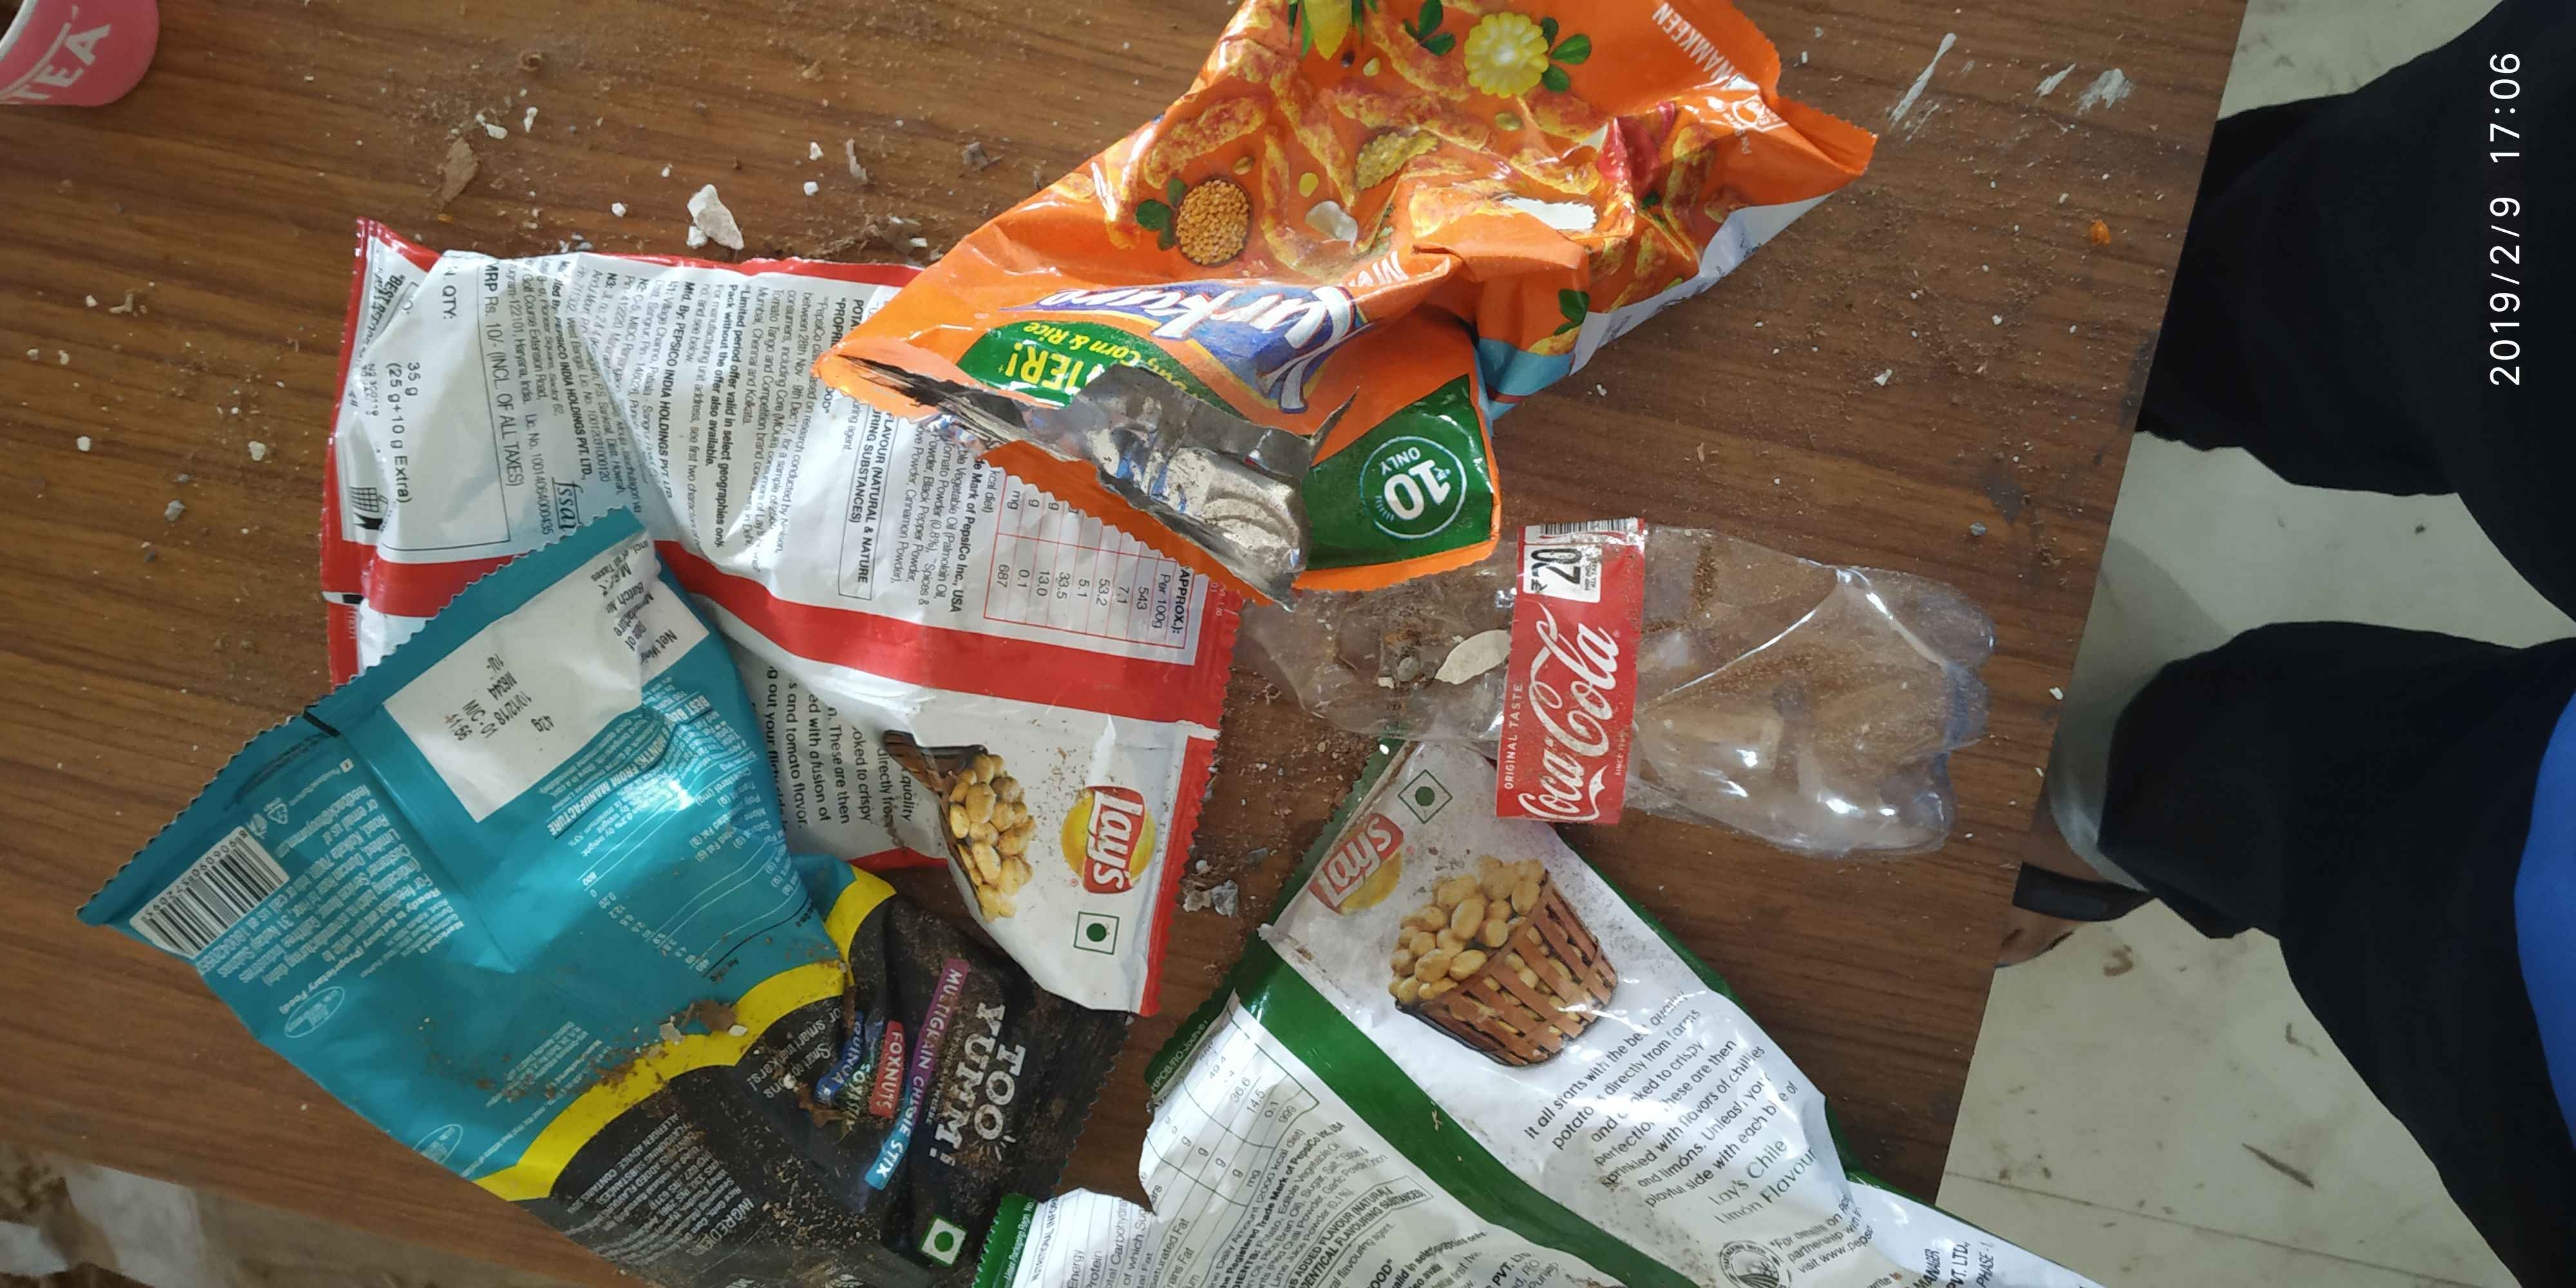Coca-Cola: (1505, 567, 1617, 841)
Lays: (1299, 795, 1424, 927), (1063, 754, 1161, 920)
kurkure: (1030, 238, 1393, 414)
tooyumm: (915, 958, 1038, 1201)
